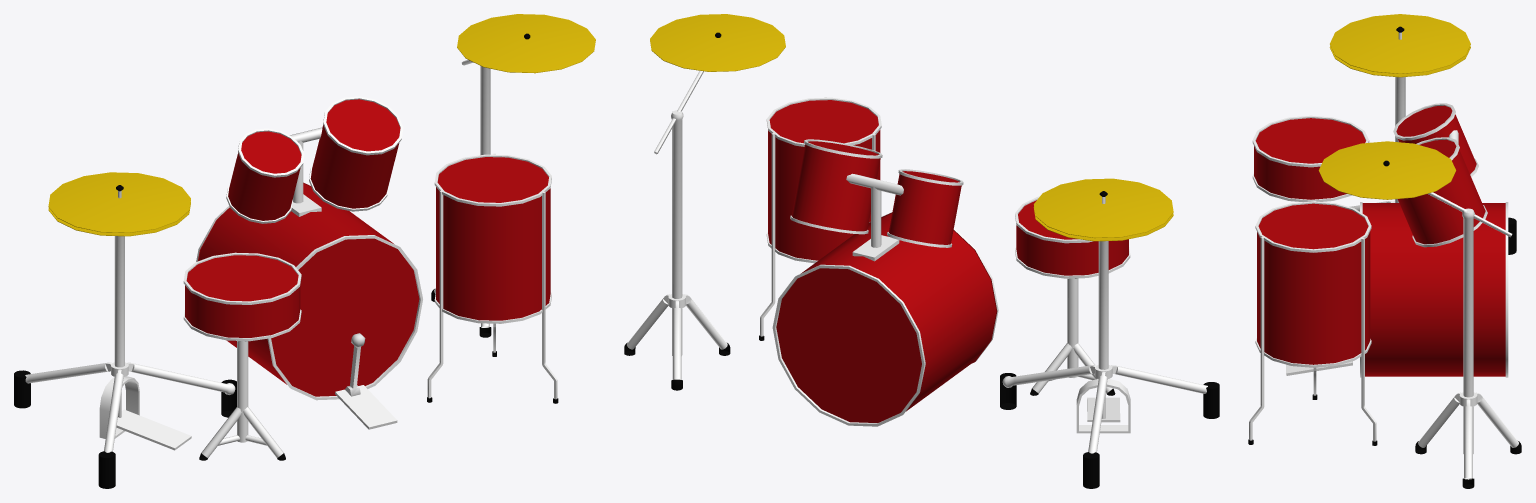
File: Bateria.fbx
3 renders of one model, left to right at view 1: azimuth 30°, elevation 25°; view 2: azimuth 150°, elevation 25°; view 3: azimuth 270°, elevation 25°, orthographic. The views are drawn at different scales.
Parts seen in each view (by area): view 1: Bumbo, Surdo, Caixa, Tom 2, Praro Chimbal 1, Prato Conducao, Tripe Chimabl, Tom 1, Pedal Chimbal, Tripe Conducao; view 2: Bumbo, Surdo, Praro Chimbal 1, Tom 2, Caixa, Prato Conducao, Tripe Chimabl, Tom 1, Tripe Conducao, Pedal Chimbal; view 3: Bumbo, Surdo, Caixa, Praro Chimbal 1, Prato Conducao, Tom 2, Tripe Conducao, Tom 1, Tripe Chimabl, Praro Chimbal 2, Suporte Conducao.
Boxes of the visible parts, x1,y1,x2,y2 form: Bumbo: (196, 127, 422, 429); Surdo: (427, 153, 558, 403); Caixa: (183, 252, 301, 460); Tom 2: (309, 96, 403, 211); Praro Chimbal 1: (48, 172, 190, 232); Prato Conducao: (457, 14, 595, 73); Tripe Chimabl: (14, 236, 236, 488); Tom 1: (226, 128, 304, 223); Pedal Chimbal: (99, 185, 191, 450); Tripe Conducao: (431, 66, 491, 337); Bumbo: (772, 173, 998, 426); Surdo: (759, 97, 881, 340); Praro Chimbal 1: (1033, 178, 1173, 238); Tom 2: (790, 139, 882, 234); Caixa: (1015, 196, 1130, 395); Prato Conducao: (650, 14, 785, 71); Tripe Chimabl: (1000, 241, 1219, 488); Tom 1: (887, 169, 963, 247); Tripe Conducao: (624, 110, 730, 390); Pedal Chimbal: (1076, 191, 1130, 433); Bumbo: (1286, 130, 1508, 377); Surdo: (1248, 200, 1377, 445); Caixa: (1252, 115, 1369, 202); Praro Chimbal 1: (1330, 14, 1470, 73); Prato Conducao: (1318, 141, 1456, 199); Tom 2: (1397, 137, 1487, 247); Tripe Conducao: (1415, 208, 1521, 488); Tom 1: (1393, 103, 1478, 176); Tripe Chimabl: (1349, 77, 1516, 254); Praro Chimbal 2: (1329, 46, 1470, 77); Suporte Conducao: (1383, 160, 1512, 237).
Size of the model in its own units: 222 by 123 by 101.
